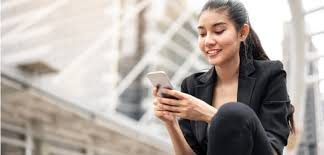Mobile-phone: (147, 72, 177, 99)
